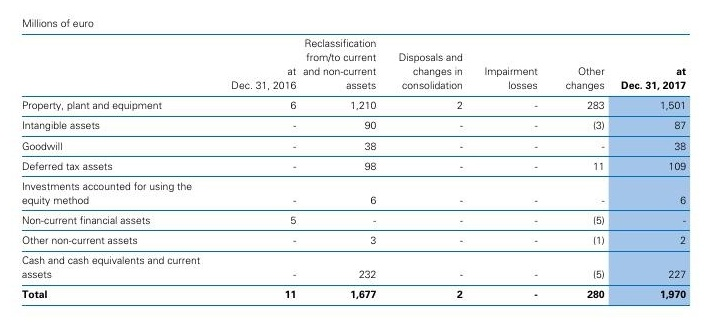table: (0, 0, 708, 322)
